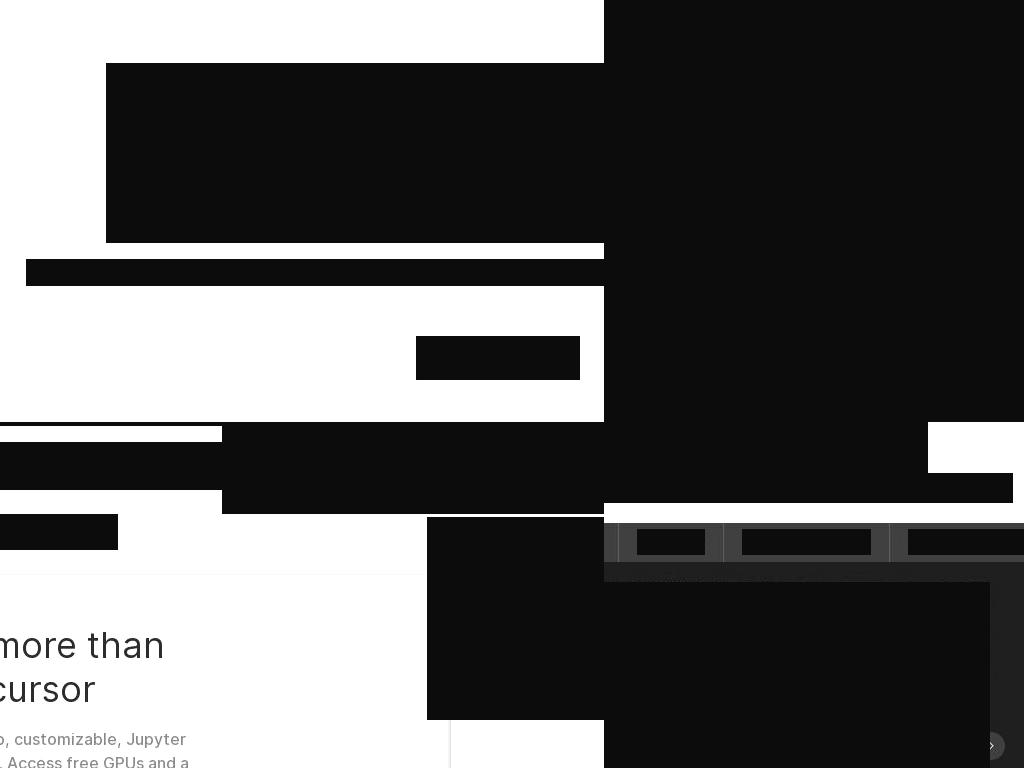button: (451, 623, 604, 768), (416, 336, 580, 380), (0, 514, 118, 550), (556, 681, 604, 717)
heading: (106, 63, 604, 243), (604, 281, 1024, 325), (0, 623, 189, 711), (604, 422, 928, 473), (26, 259, 604, 286), (604, 473, 1013, 503), (604, 95, 763, 157), (604, 60, 710, 87), (604, 741, 695, 768), (710, 60, 761, 87), (759, 60, 807, 87), (604, 95, 649, 122)
image: (604, 0, 1024, 422), (604, 582, 990, 768), (427, 517, 604, 720), (451, 623, 604, 768), (222, 422, 428, 514), (427, 422, 604, 514), (977, 732, 1005, 760)
link: (742, 529, 871, 555), (908, 529, 1024, 555), (637, 529, 705, 555), (604, 715, 663, 733)
text: (0, 442, 604, 490), (0, 727, 189, 768), (0, 523, 110, 541), (572, 690, 604, 708)
